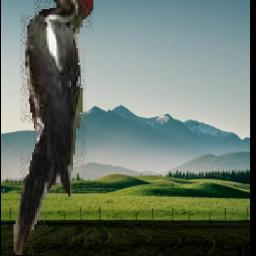Woodpecker: (14, 0, 93, 255)
